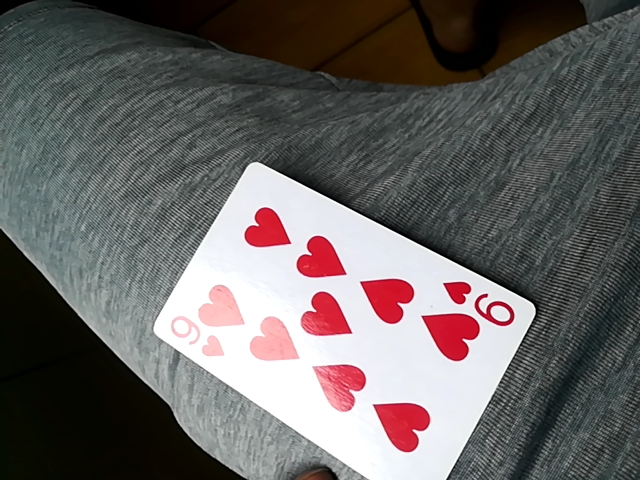hx 9: (159, 160, 537, 477)
